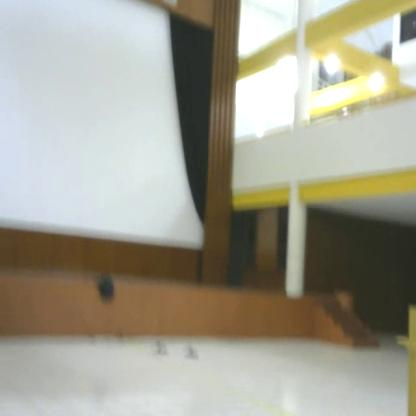pole: (395, 302, 416, 416)
